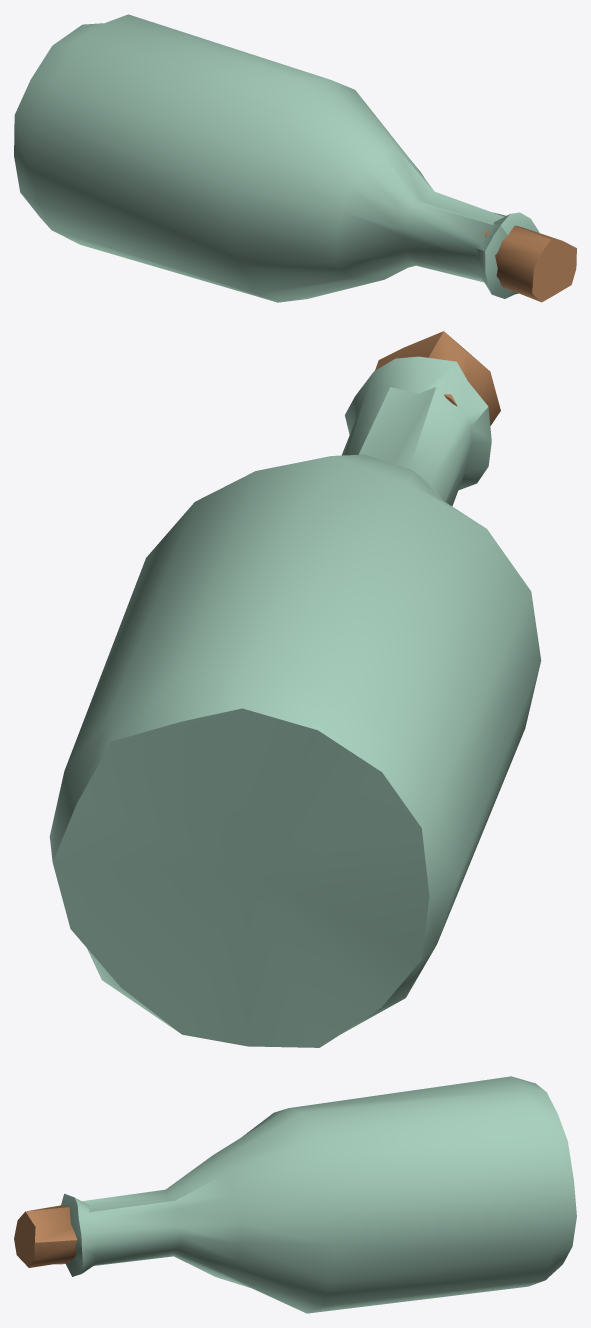
The model's file is find_bottle.glb.
The picture shows the model from 3 angles, top to bottom: view 1: azimuth 30°, elevation 25°; view 2: azimuth 150°, elevation 25°; view 3: azimuth 270°, elevation 25°; orthographic projection. The views are drawn at different scales.
Parts seen in each view (by area): view 1: find_bottle; view 2: find_bottle; view 3: find_bottle.
Part boxes in pixels (x1=…): find_bottle: x1=14, y1=14, x2=576, y2=302; find_bottle: x1=49, y1=331, x2=541, y2=1047; find_bottle: x1=14, y1=1076, x2=576, y2=1313.
Size of the model in its own units: 0.3531 by 0.2472 by 0.6477.
